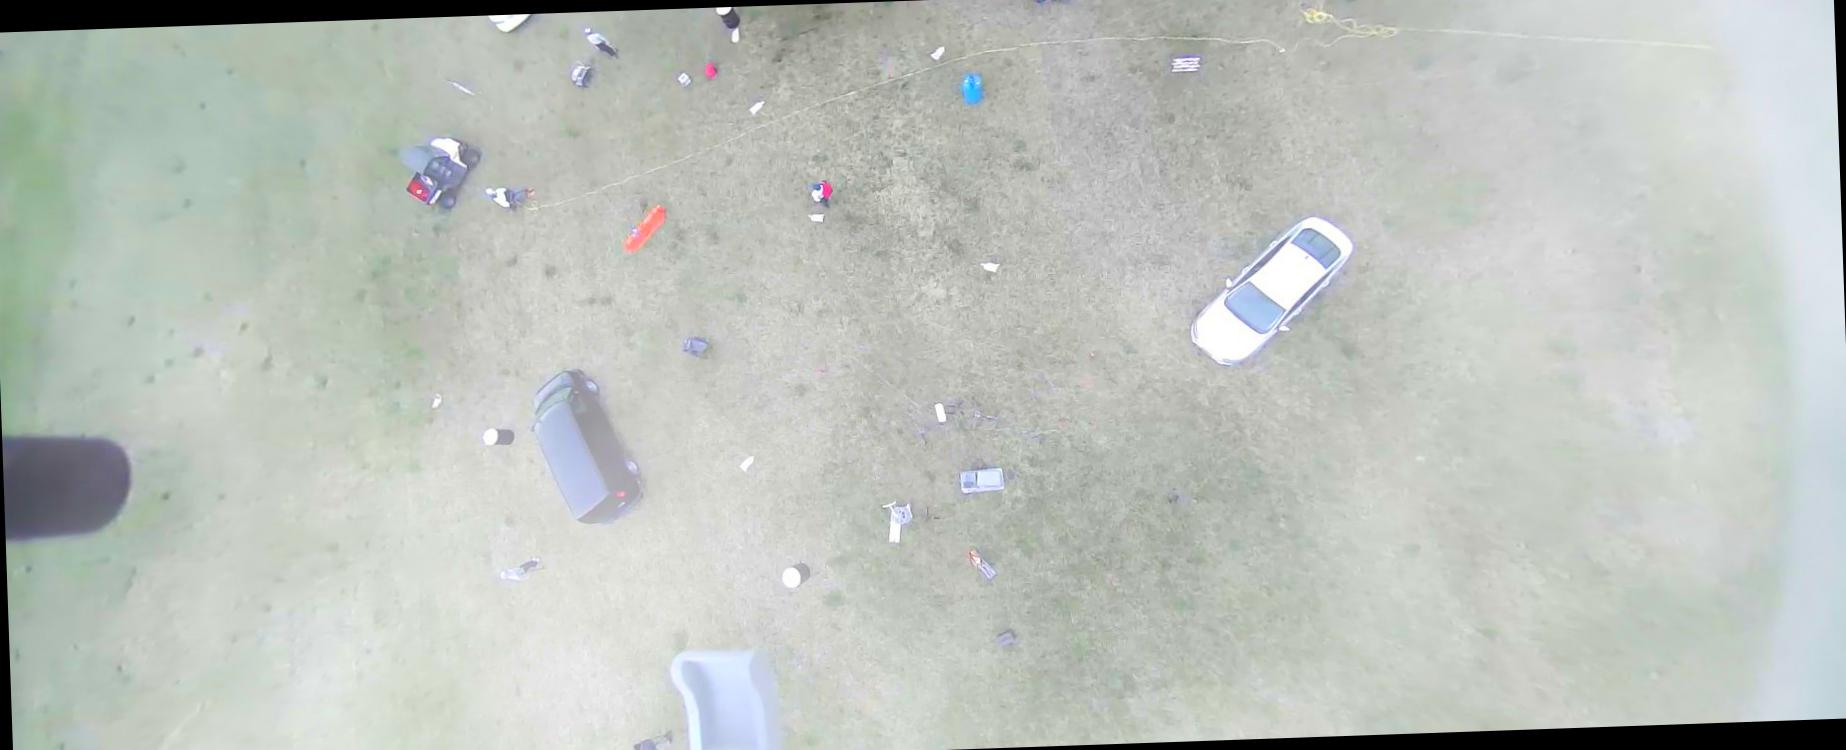vehicle: (1186, 213, 1357, 369), (527, 366, 645, 530), (399, 134, 483, 211), (486, 14, 531, 34)
